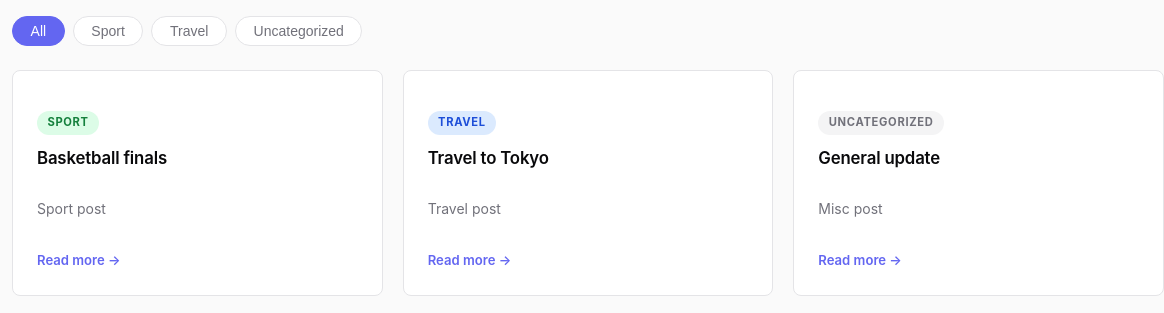
filters to Uncategorized only
Click the button "Uncategorized": coordinates (299, 31) top-left (235, 16), bottom-right (362, 46)
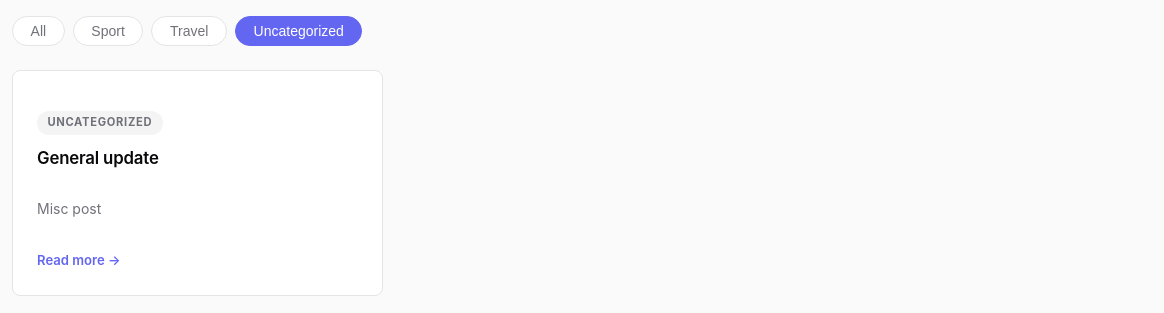
Expected: the link "General update" is shown, top-left (37, 148), bottom-right (159, 168)
Expected: the link "Basketball finals" is gone
